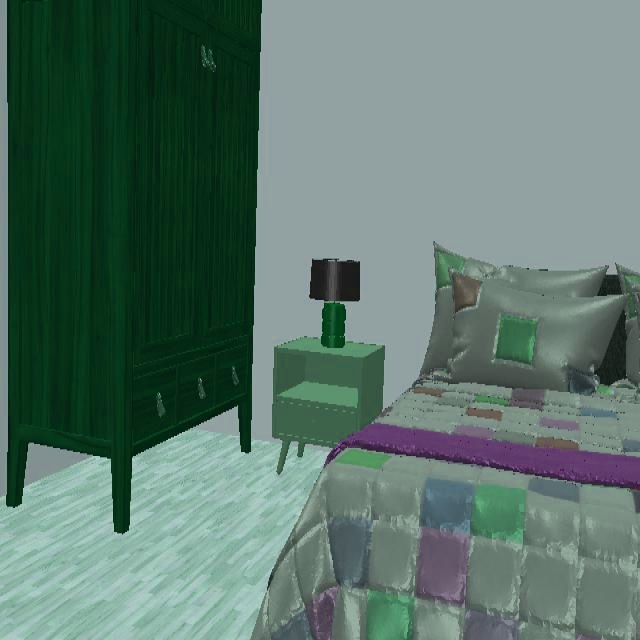bed: (251, 368, 640, 640), (594, 300, 631, 387), (599, 275, 623, 297)
lamp: (309, 259, 361, 349)
nighttable: (271, 337, 384, 475)
pillow: (420, 243, 607, 376), (450, 271, 631, 396), (615, 264, 640, 392)
wardrobe: (5, 0, 263, 536)
